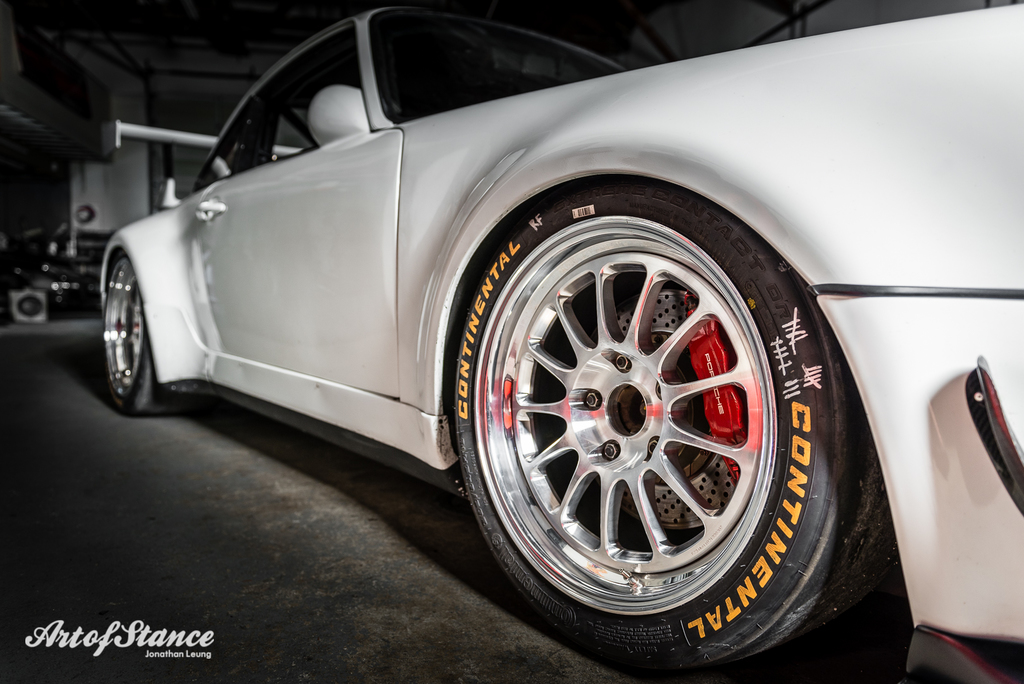Car: (103, 0, 1023, 683), (0, 243, 103, 317)
